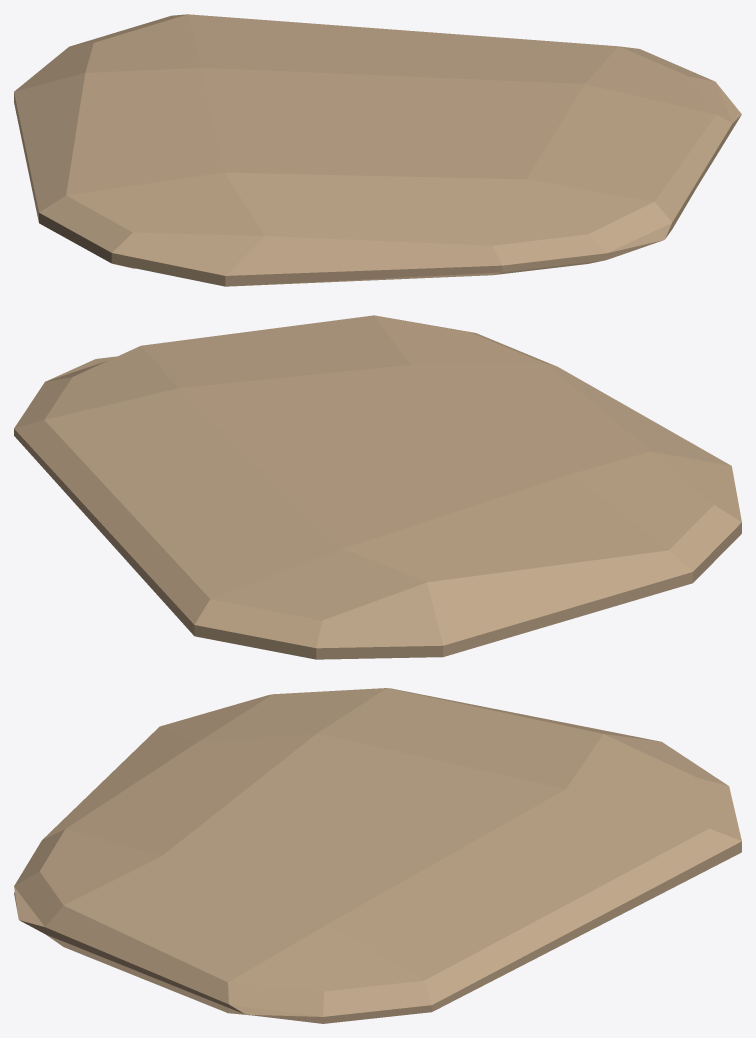
File: rock_15.FBX
The picture shows the model from 3 angles, top to bottom: view 1: azimuth 30°, elevation 25°; view 2: azimuth 150°, elevation 25°; view 3: azimuth 270°, elevation 25°; orthographic projection. The views are drawn at different scales.
Visible parts, largest first — view 1: Box073; view 2: Box073; view 3: Box073.
Boxes of the visible parts, box(x1,y1,x2,y2) form: Box073: box(14, 14, 741, 286); Box073: box(14, 315, 741, 659); Box073: box(14, 688, 741, 1023).
Bounding box in the file's own units: 1465 × 153 × 1381.
